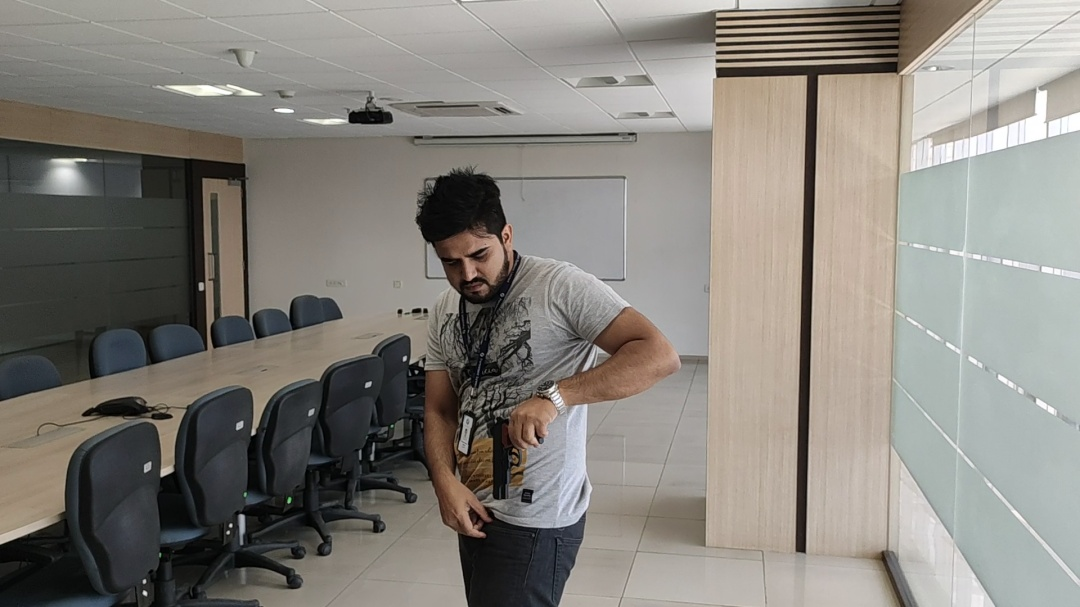gun: (484, 404, 519, 501)
